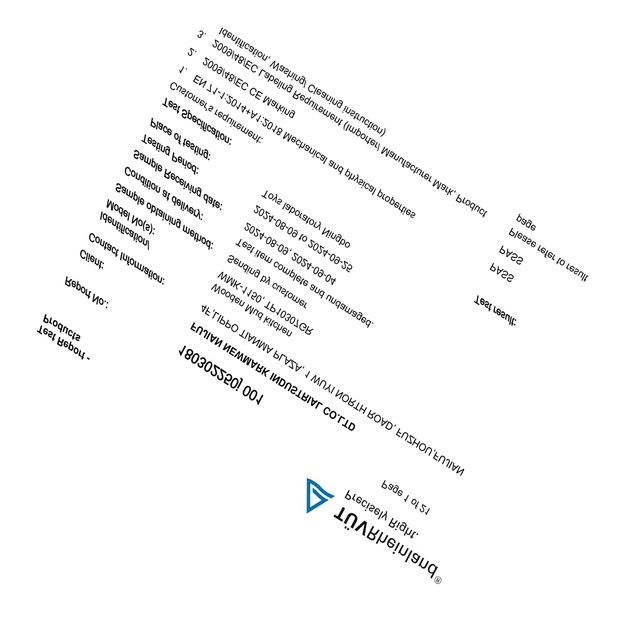tuv_rheinland: (303, 474, 443, 585)
